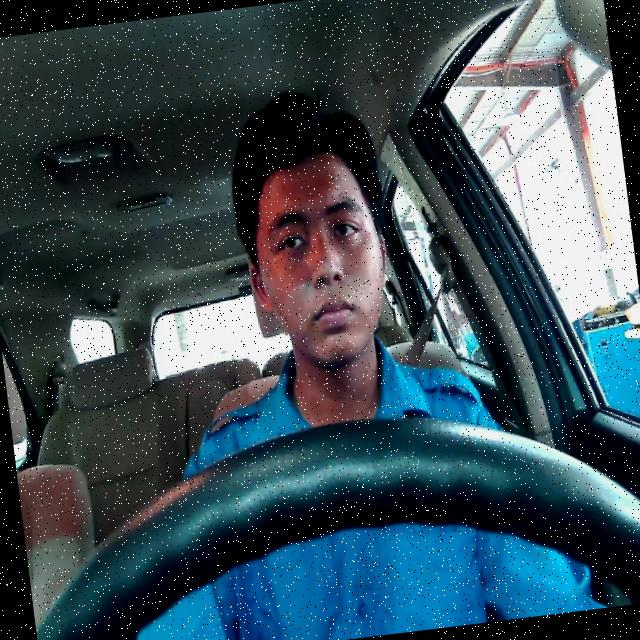focused: (236, 144, 400, 374)
